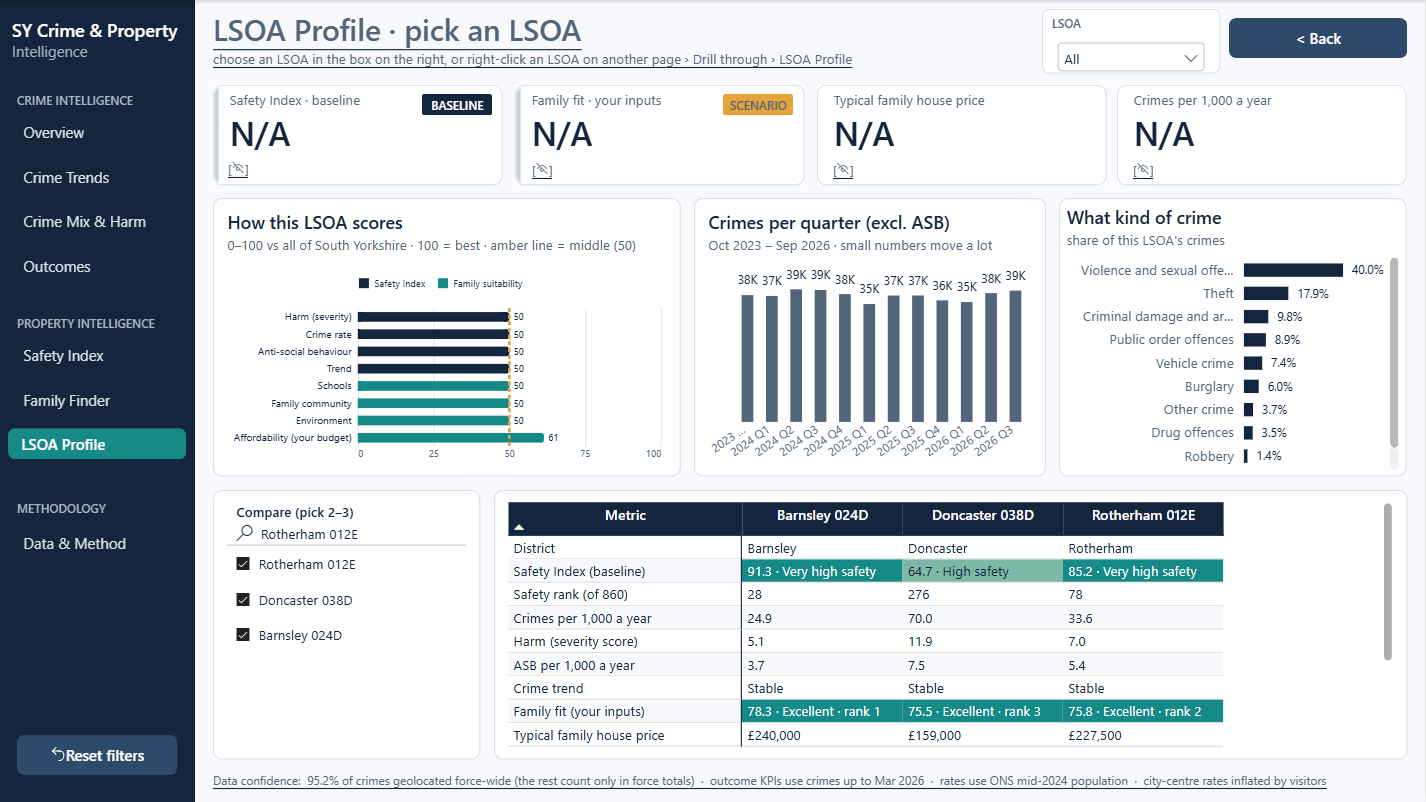

What the dashboard file says about the page in this screenshot:
{"tool":"powerbi","page":{"name":"LSOA Profile","canvas":[1280,720],"ordinal":6},"visuals":[{"type":"shape","box":[0,0,176,720],"z":0,"group":"g1"},{"type":"group","id":"g1","title":"Nav rail","box":[0,0,176,720],"z":0},{"type":"cardVisual","fields":{"Data":["_Measures.FSI Class"]},"box":[463,76,260,90],"z":0,"group":"g5"},{"type":"cardVisual","fields":{"Data":["_Measures.Family House Price"]},"box":[734,76,260,90],"z":0,"group":"g6"},{"type":"cardVisual","fields":{"Data":["_Measures.Crimes per 1,000 (LSOA)"]},"box":[1004,76,260,90],"z":0,"group":"g7"},{"type":"cardVisual","title":"Card","fields":{"Data":["_Measures.Safety Index (baseline)"]},"box":[192.1,76.3,260,90],"z":0,"group":"g4"},{"type":"shape","box":[380,84,63,19],"z":0,"group":"g2"},{"type":"shape","box":[650,84,63,19],"z":0,"group":"g3"},{"type":"textbox","box":[12,16,160,56],"z":1000,"group":"g1"},{"type":"textbox","box":[382,84,60,17.9],"z":1000,"group":"g2"},{"type":"textbox","box":[652,84,60,17.9],"z":1000,"group":"g3"},{"type":"textbox","box":[206,142,232,18],"z":1000,"group":"g4"},{"type":"textbox","box":[477.9,142,232,18],"z":1000,"group":"g5"},{"type":"textbox","box":[748,142,232,18],"z":1000,"group":"g6"},{"type":"textbox","box":[1018.6,142,232,18],"z":1000,"group":"g7"},{"type":"textbox","box":[192,690,1072,22],"z":1000},{"type":"group","id":"g2","title":"Badge - KPI1","box":[380,84,63,19],"z":1500,"group":"g4"},{"type":"group","id":"g3","title":"Badge - KPI2","box":[650,84,63,19],"z":1500,"group":"g5"},{"type":"textbox","box":[16,80,156,20],"z":2000,"group":"g1"},{"type":"textbox","box":[16,280,156,20],"z":3000,"group":"g1"},{"type":"textbox","box":[16,446,156,20],"z":4000,"group":"g1"},{"type":"pageNavigator","box":[8,104,160,150],"z":5000,"group":"g1"},{"type":"pageNavigator","box":[8,304,160,108],"z":6000,"group":"g1"},{"type":"pageNavigator","box":[8,470,160.1,32],"z":7000,"group":"g1"},{"type":"textbox","box":[192,8,720,37],"z":8000},{"type":"actionButton","box":[16,660,144,36],"z":8000,"group":"g1"},{"type":"textbox","box":[192,43,736,22],"z":9000},{"type":"slicer","title":"LSOA","fields":{"Values":["LSOA.LSOA Name"]},"box":[936,8,160,58],"z":10000},{"type":"actionButton","box":[1104,16,160,36],"z":11000},{"type":"group","id":"g4","title":"KPI P7-1","box":[192.1,76.3,260,90],"z":12000},{"type":"group","id":"g5","title":"KPI P7-2","box":[463,76,260,90],"z":13000},{"type":"group","id":"g6","title":"KPI P7-3","box":[734,76,260,90],"z":14000},{"type":"group","id":"g7","title":"KPI P7-4","box":[1004,76,260,90],"z":15000},{"type":"deneb7E15AEF80B9E4D4F8E12924291ECE89A","title":"How this LSOA scores","fields":{"dataset":["LSOA.LSOA Code","LSOA.LSOA Name","LSOA.Severity Percentile","LSOA.Crime Rate Percentile","LSOA.ASB Percentile","LSOA.Trend Percentile","LSOA.Schools Percentile","LSOA.Family Community Percentile","LSOA.Environment Percentile","_Measures.Affordability Score"]},"box":[192,178,420,250],"z":16000},{"type":"clusteredColumnChart","title":"Crimes per quarter (excl. ASB)","fields":{"Category":["Month.Year Quarter"],"Y":["_Measures.Crimes (excl. ASB)"]},"box":[624,178,316,250],"z":17000},{"type":"clusteredBarChart","title":"What kind of crime","fields":{"Category":["Crime Category.Crime Group"],"Y":["_Measures.% of Crimes"]},"box":[952,178,312,250],"z":18000},{"type":"slicer","fields":{"Values":["Compare LSOA.Compare LSOA"]},"box":[192,440,240,242],"z":19000},{"type":"pivotTable","fields":{"Columns":["Compare LSOA.Compare LSOA"],"Rows":["Compare Metric.Metric"],"Values":["_Measures.Compare Value"]},"box":[444,440,820,242],"z":20000}]}

Visuals, with their boxes in screenshot pixels (x1, y1, x2, y2), scaled from the page's 1280x720 canvas onto the 1426x802 screenshot:
shape: [left=0, top=0, right=196, bottom=801]
"Nav rail" group: [left=0, top=0, right=196, bottom=801]
cardVisual - _Measures.FSI Class: [left=516, top=85, right=805, bottom=185]
cardVisual - _Measures.Family House Price: [left=818, top=85, right=1107, bottom=185]
cardVisual - _Measures.Crimes per 1,000 (LSOA): [left=1119, top=85, right=1408, bottom=185]
"Card" cardVisual: [left=214, top=85, right=504, bottom=185]
shape: [left=423, top=94, right=494, bottom=115]
shape: [left=724, top=94, right=794, bottom=115]
textbox: [left=13, top=18, right=192, bottom=80]
textbox: [left=426, top=94, right=492, bottom=114]
textbox: [left=726, top=94, right=793, bottom=114]
textbox: [left=229, top=158, right=488, bottom=178]
textbox: [left=532, top=158, right=791, bottom=178]
textbox: [left=833, top=158, right=1092, bottom=178]
textbox: [left=1135, top=158, right=1393, bottom=178]
textbox: [left=214, top=769, right=1408, bottom=793]
"Badge - KPI1" group: [left=423, top=94, right=494, bottom=115]
"Badge - KPI2" group: [left=724, top=94, right=794, bottom=115]
textbox: [left=18, top=89, right=192, bottom=111]
textbox: [left=18, top=312, right=192, bottom=334]
textbox: [left=18, top=497, right=192, bottom=519]
pageNavigator: [left=9, top=116, right=187, bottom=283]
pageNavigator: [left=9, top=339, right=187, bottom=459]
pageNavigator: [left=9, top=524, right=187, bottom=559]
textbox: [left=214, top=9, right=1016, bottom=50]
actionButton: [left=18, top=735, right=178, bottom=775]
textbox: [left=214, top=48, right=1034, bottom=72]
"LSOA" slicer: [left=1043, top=9, right=1221, bottom=74]
actionButton: [left=1230, top=18, right=1408, bottom=58]
"KPI P7-1" group: [left=214, top=85, right=504, bottom=185]
"KPI P7-2" group: [left=516, top=85, right=805, bottom=185]
"KPI P7-3" group: [left=818, top=85, right=1107, bottom=185]
"KPI P7-4" group: [left=1119, top=85, right=1408, bottom=185]
"How this LSOA scores" deneb7E15AEF80B9E4D4F8E12924291ECE89A: [left=214, top=198, right=682, bottom=477]
"Crimes per quarter (excl. ASB)" clusteredColumnChart: [left=695, top=198, right=1047, bottom=477]
"What kind of crime" clusteredBarChart: [left=1061, top=198, right=1408, bottom=477]
slicer - Compare LSOA.Compare LSOA: [left=214, top=490, right=481, bottom=760]
pivotTable - Compare LSOA.Compare LSOA x Compare Metric.Metric: [left=495, top=490, right=1408, bottom=760]
